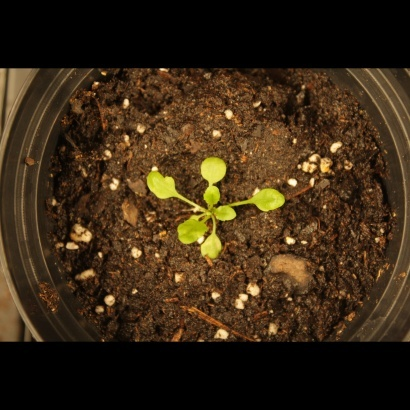leaf: (139, 165, 181, 209), (243, 184, 290, 216), (174, 215, 209, 247), (197, 151, 228, 185), (202, 233, 230, 267), (216, 206, 239, 229), (200, 186, 223, 209)
